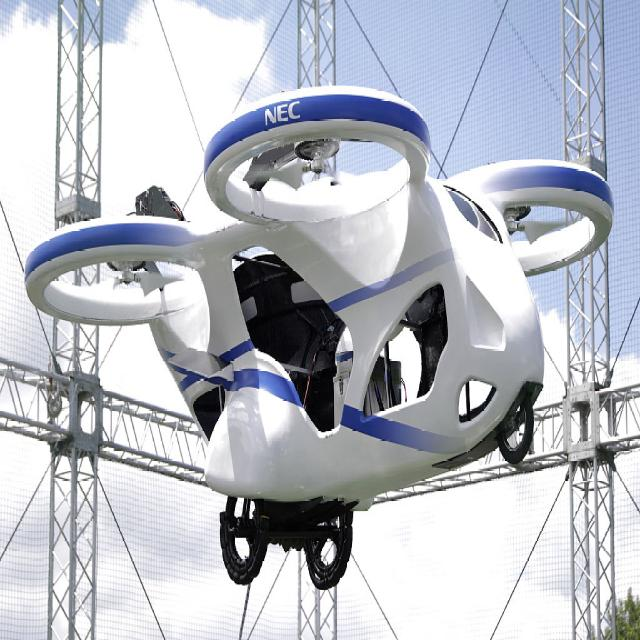drone: (20, 76, 619, 599)
